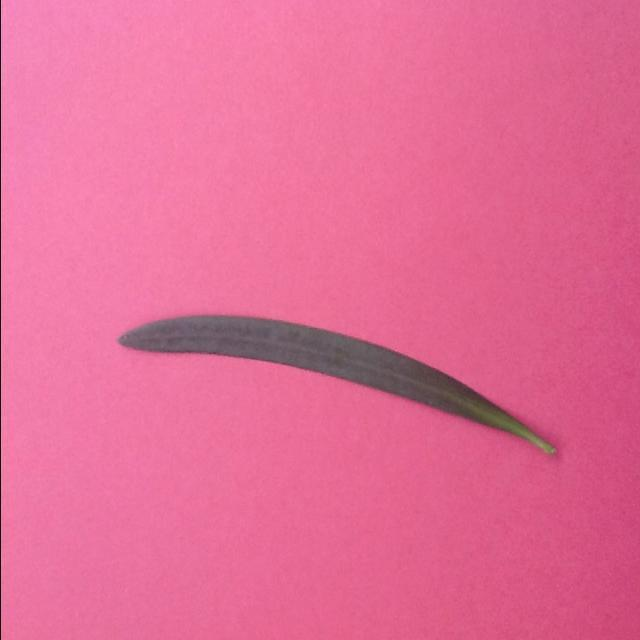foliage: (117, 304, 560, 466)
